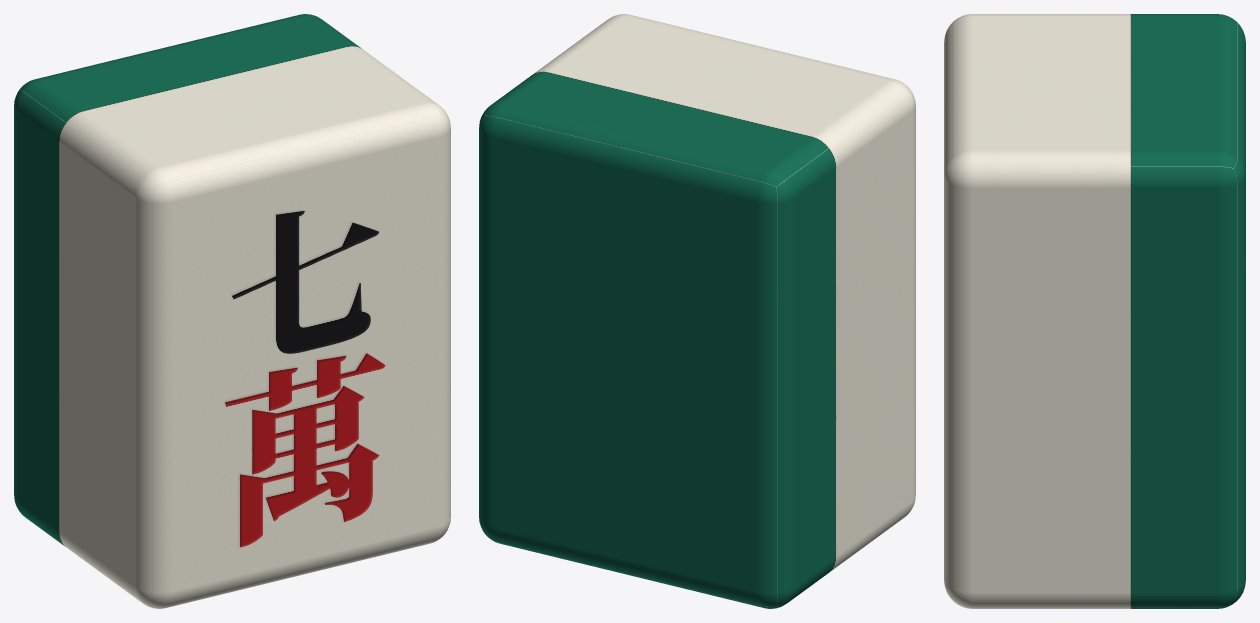
The model's file is tile_7m.obj.
The picture shows the model from 3 angles, left to right: view 1: azimuth 30°, elevation 25°; view 2: azimuth 150°, elevation 25°; view 3: azimuth 270°, elevation 25°; orthographic projection. The views are drawn at different scales.
Visible parts, largest first — view 1: tile_7m; view 2: tile_7m; view 3: tile_7m.
Boxes of the visible parts, <box> form: tile_7m: <box>14,14,450,608</box>; tile_7m: <box>479,14,915,608</box>; tile_7m: <box>944,14,1245,608</box>.
Size of the model in its own units: 0.026 by 0.035 by 0.021.
1 material, 1 textured.
